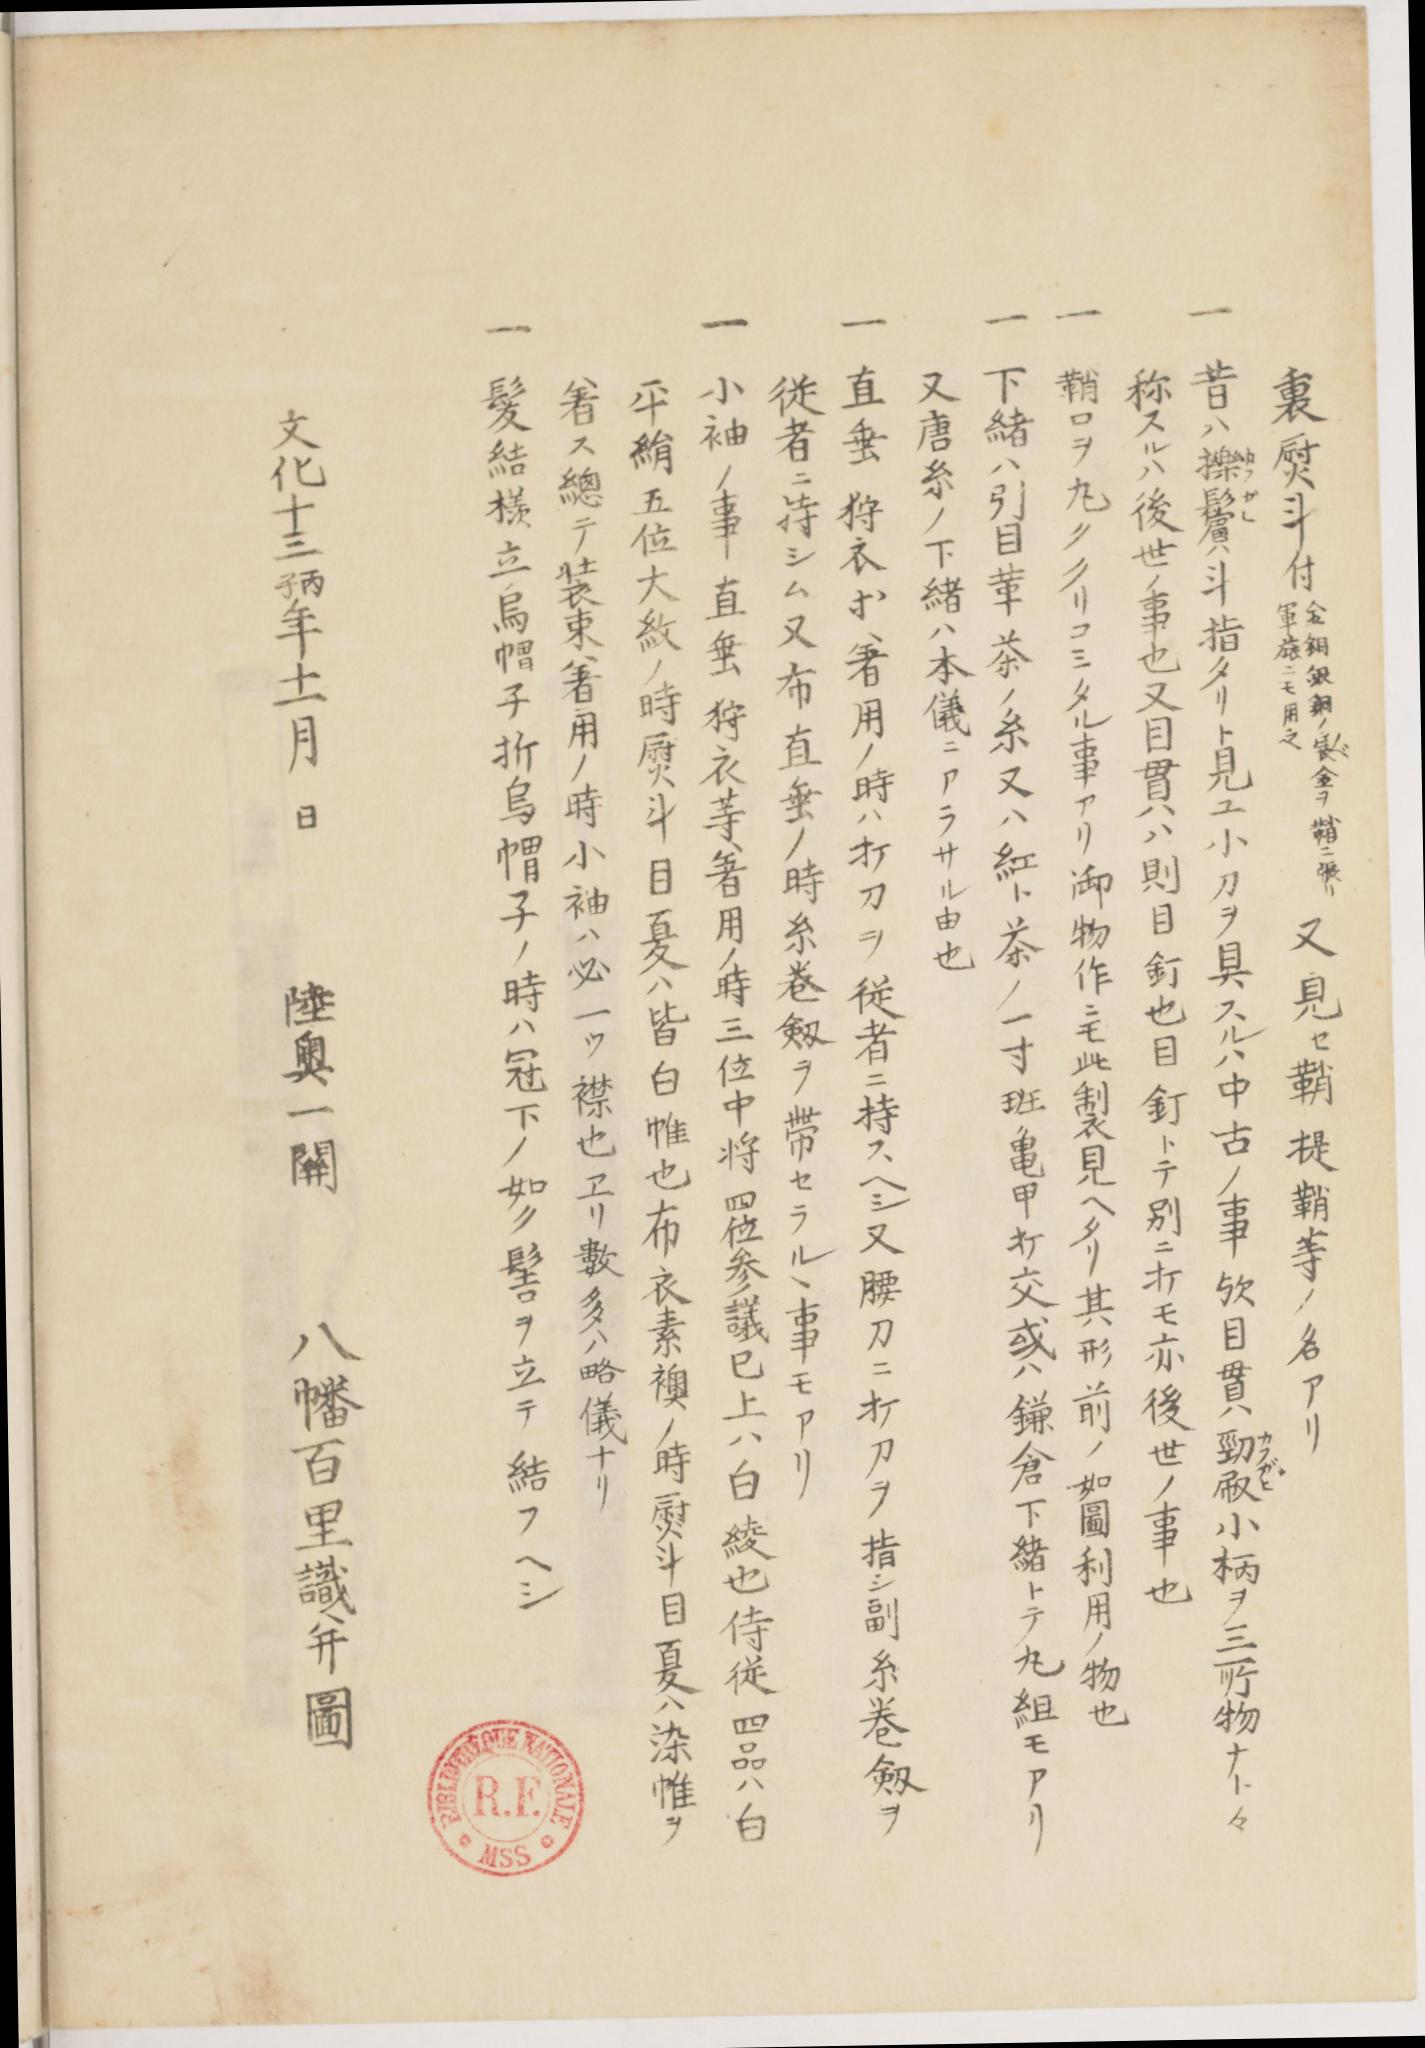MainZone-Character: (1195, 486, 1265, 557), (1206, 1457, 1290, 1506), (1195, 444, 1259, 486), (1213, 1424, 1273, 1464)
MainZone-Ruby: (1255, 1458, 1287, 1494), (1238, 486, 1260, 526), (1254, 1427, 1273, 1466), (1241, 445, 1259, 484)
